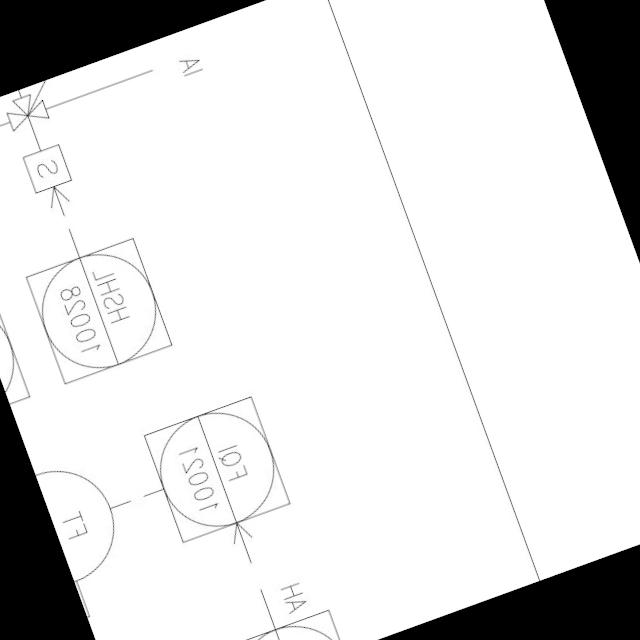3W: (0, 86, 56, 136)
SV: (1, 99, 76, 199)
